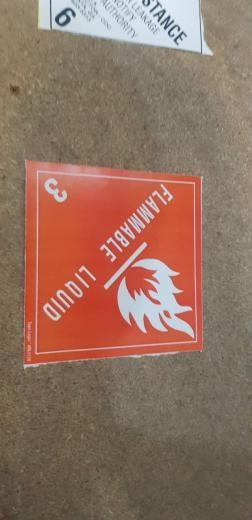flammable: (26, 161, 200, 363)
